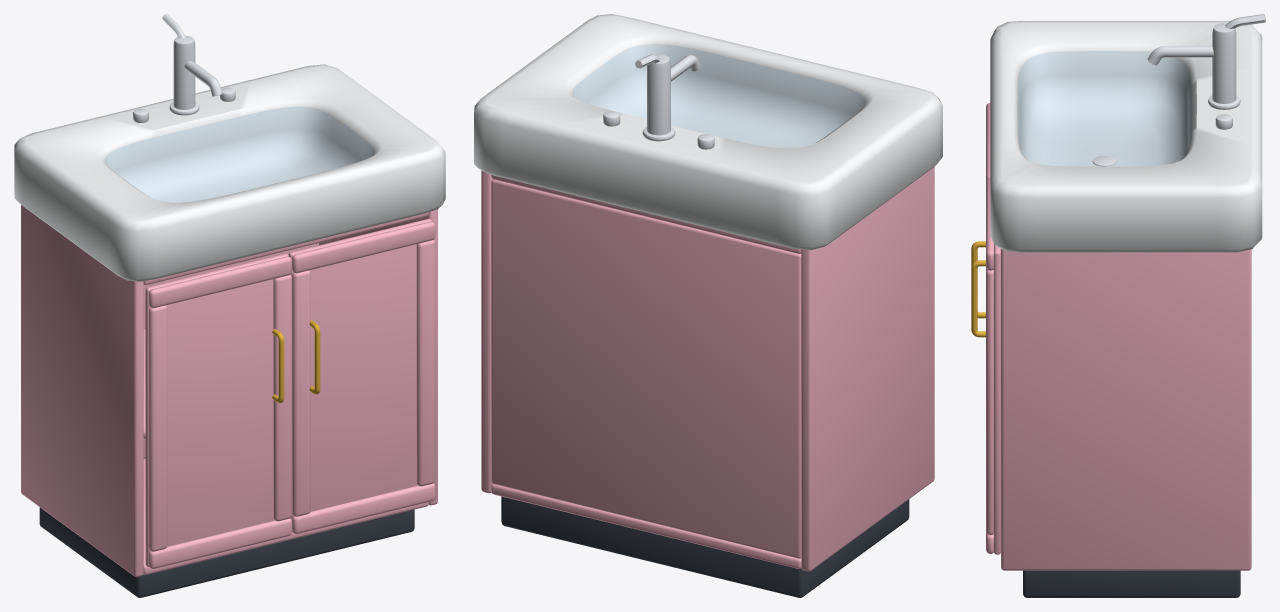
File: gabinete_pia_duas_portas_rosa.glb
The picture shows the model from 3 angles, left to right: view 1: azimuth 30°, elevation 25°; view 2: azimuth 150°, elevation 25°; view 3: azimuth 270°, elevation 25°; orthographic projection. The views are drawn at different scales.
Parts seen in each view (by area): view 1: gabinete_pia_duas_portas_rosa, porta_1, porta_2; view 2: gabinete_pia_duas_portas_rosa; view 3: gabinete_pia_duas_portas_rosa, porta_2, porta_1.
Part boxes in pixels (x1=…): gabinete_pia_duas_portas_rosa: x1=14, y1=14, x2=445, y2=597; porta_1: x1=145, y1=253, x2=291, y2=568; porta_2: x1=288, y1=218, x2=435, y2=533; gabinete_pia_duas_portas_rosa: x1=474, y1=14, x2=942, y2=597; gabinete_pia_duas_portas_rosa: x1=990, y1=14, x2=1265, y2=597; porta_2: x1=971, y1=179, x2=1000, y2=554; porta_1: x1=971, y1=103, x2=990, y2=318.
Size of the model in its own units: 0.75 by 1.04 by 0.5409.
1 material, 1 textured.
